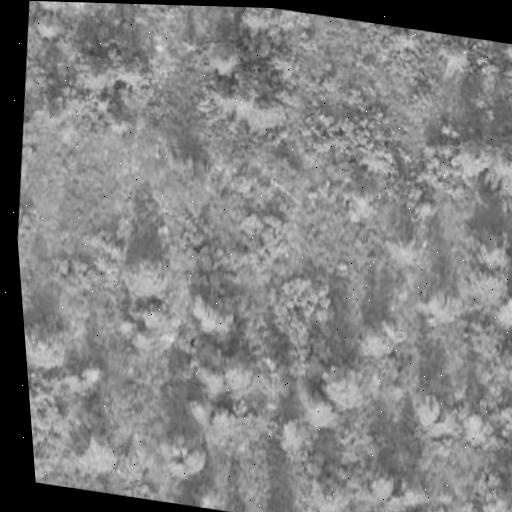tree-top: (269, 269, 342, 349), (67, 24, 147, 93), (145, 142, 217, 208), (33, 75, 113, 132), (454, 125, 512, 203), (451, 215, 512, 273), (180, 294, 241, 352), (237, 88, 298, 144), (157, 426, 211, 487), (125, 251, 179, 304), (23, 314, 76, 368), (207, 404, 262, 455), (320, 362, 375, 411), (75, 428, 124, 478), (198, 34, 250, 81), (16, 99, 48, 174), (248, 42, 300, 87), (427, 37, 481, 80), (352, 318, 402, 364), (352, 134, 401, 178), (306, 471, 357, 512), (354, 459, 395, 509), (215, 359, 263, 401), (73, 349, 113, 394), (233, 7, 285, 41), (185, 475, 230, 511), (33, 9, 75, 45), (305, 399, 345, 436), (487, 336, 512, 390), (120, 4, 176, 28), (494, 288, 512, 332), (484, 484, 512, 512), (492, 42, 512, 70), (254, 505, 297, 512), (506, 397, 512, 444)
